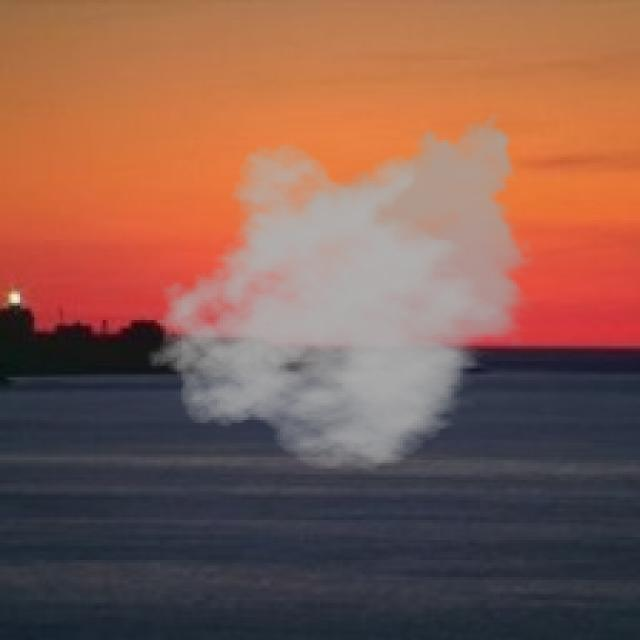Smoke: (145, 106, 538, 472)
